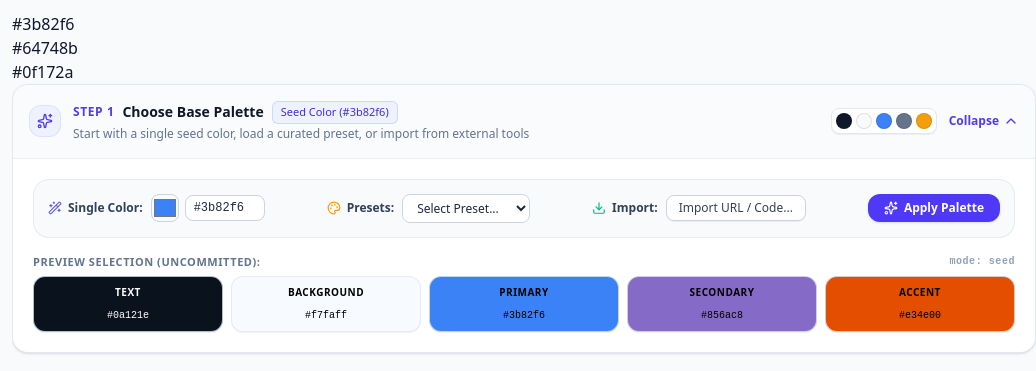
Test: BasePaletteWorkflow (TT-026) › loads preset into draft and commits on Apply Palette
Select "Emerald Forest" in the dropdown named "Choose curated preset": (466, 208) [402,194,530,222]
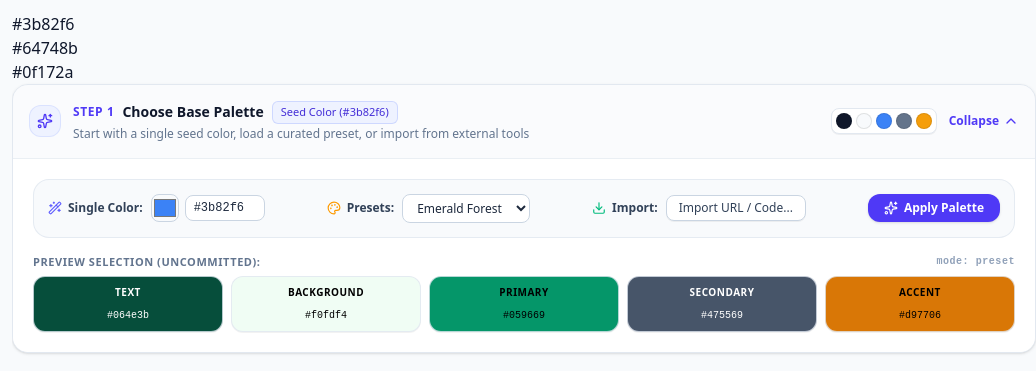
expect the element with test id "context-primary" does not show "#059669": met
// Click Apply Palette
Click the button "Apply Palette": (934, 208) [868,194,1000,222]
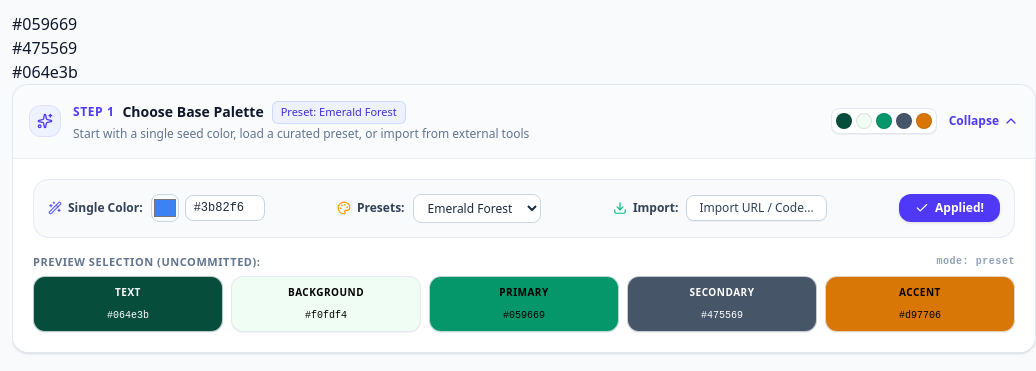
expect the text with test id "context-primary" reads "#059669": met, box [12,13,77,35]
